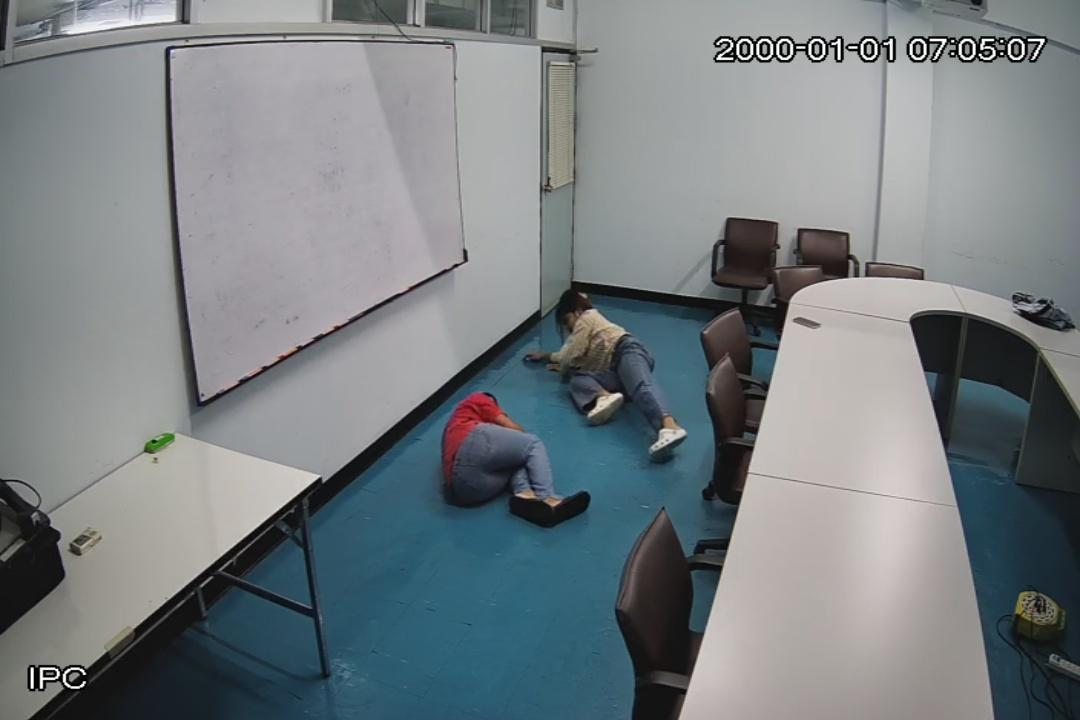fall: (532, 274, 688, 456), (434, 384, 598, 532)
